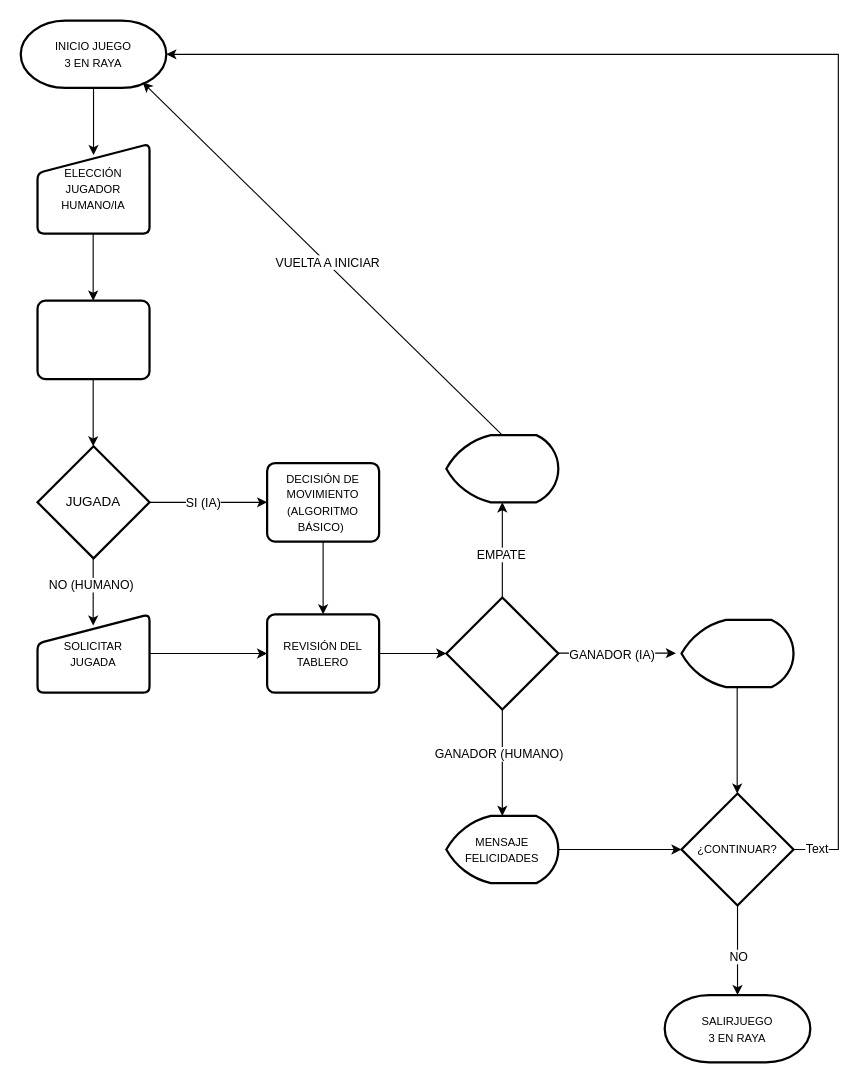
This 867x1082 diagram has some shape labels left out. Here are the shapes that lost their labels. From the top down, the centre of each, then its label:
At [93,339]: "CONFIGURACIÓN DE TABLERO".
At [502,468]: "MENSAJE EMPATE".
At [502,653]: "¿QUÉ ESTÁ PASANDO?".
At [737,653]: "MENSAJE LO SIENTO".
